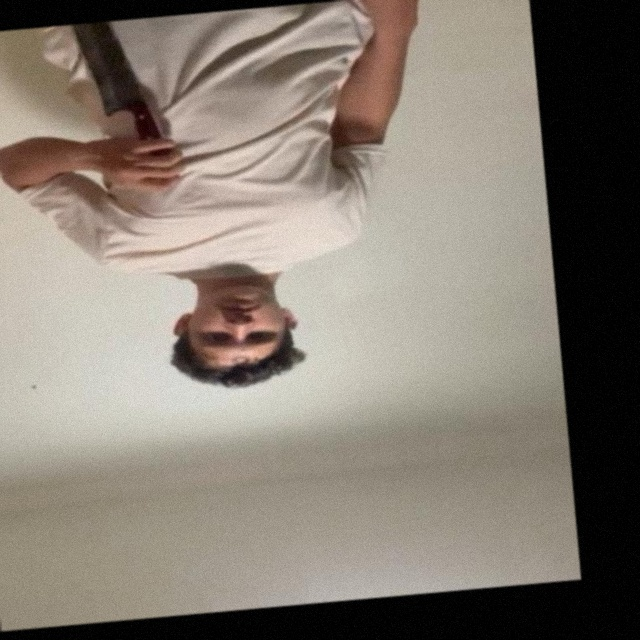Sharp-Object: (77, 20, 138, 119)
